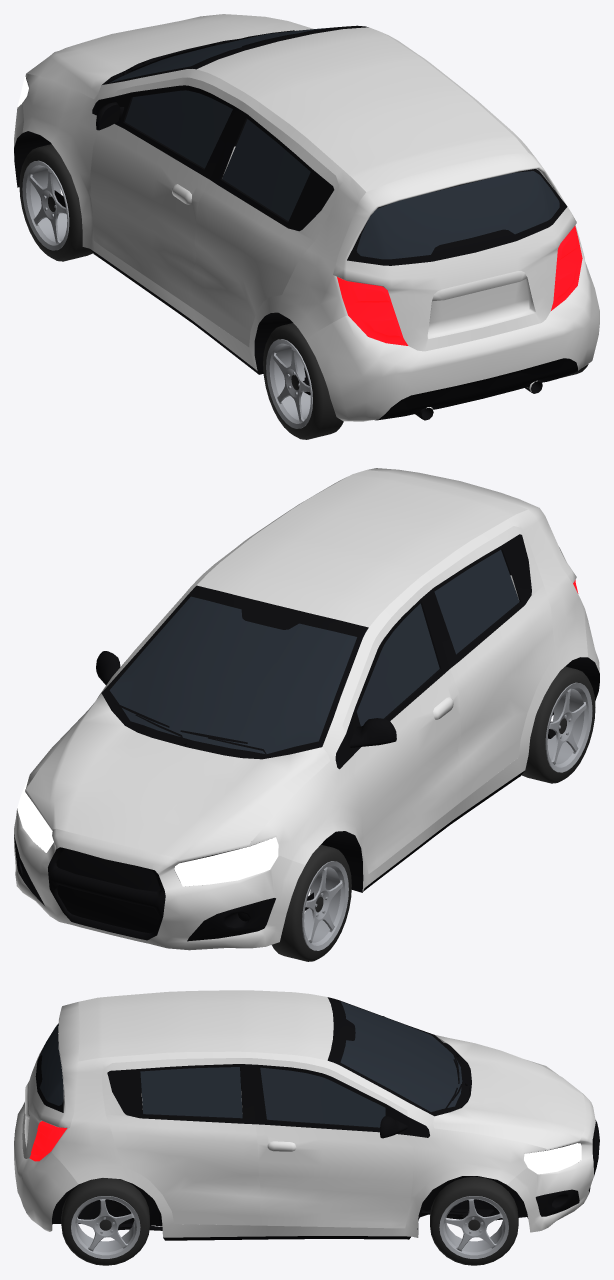
Rendered from hatch_ev.glb.
The picture shows the model from 3 angles, top to bottom: view 1: azimuth 30°, elevation 25°; view 2: azimuth 150°, elevation 25°; view 3: azimuth 270°, elevation 25°; orthographic projection. The views are drawn at different scales.
Visible parts, largest first — view 1: Body, Glass, Bumper_R, Hood, Wheel_RL, Wheel_FL, Lamp_R; view 2: Body, Glass, Hood, Bumper_F, Wheel_FL, Wheel_RL, Lamp_F, Mirror_L; view 3: Body, Glass, Hood, Wheel_FR, Wheel_RR, Bumper_F, Bumper_R, Lamp_F, Lamp_R, Mirror_R.
Boxes of the visible parts, bbox=[...] form: Body: bbox=[14, 25, 584, 420]; Glass: bbox=[110, 27, 559, 259]; Bumper_R: bbox=[306, 258, 599, 421]; Hood: bbox=[26, 14, 313, 98]; Wheel_RL: bbox=[263, 323, 343, 439]; Wheel_FL: bbox=[19, 144, 92, 261]; Lamp_R: bbox=[337, 225, 582, 345]; Body: bbox=[25, 468, 599, 910]; Glass: bbox=[109, 550, 519, 753]; Hood: bbox=[25, 693, 329, 863]; Bumper_F: bbox=[14, 808, 305, 950]; Wheel_FL: bbox=[272, 844, 351, 961]; Wheel_RL: bbox=[522, 666, 595, 783]; Lamp_F: bbox=[17, 778, 278, 886]; Mirror_L: bbox=[349, 718, 396, 747]; Body: bbox=[22, 990, 581, 1240]; Glass: bbox=[39, 1001, 462, 1127]; Hood: bbox=[433, 1035, 586, 1150]; Wheel_FR: bbox=[430, 1176, 518, 1265]; Wheel_RR: bbox=[61, 1178, 149, 1265]; Bumper_F: bbox=[507, 1093, 599, 1232]; Bumper_R: bbox=[14, 1102, 78, 1231]; Lamp_F: bbox=[524, 1143, 581, 1174]; Lamp_R: bbox=[29, 1121, 67, 1161]; Mirror_R: bbox=[380, 1115, 407, 1138].
Bounding box in the file's own units: 1.81 × 1.52 × 4.05.
